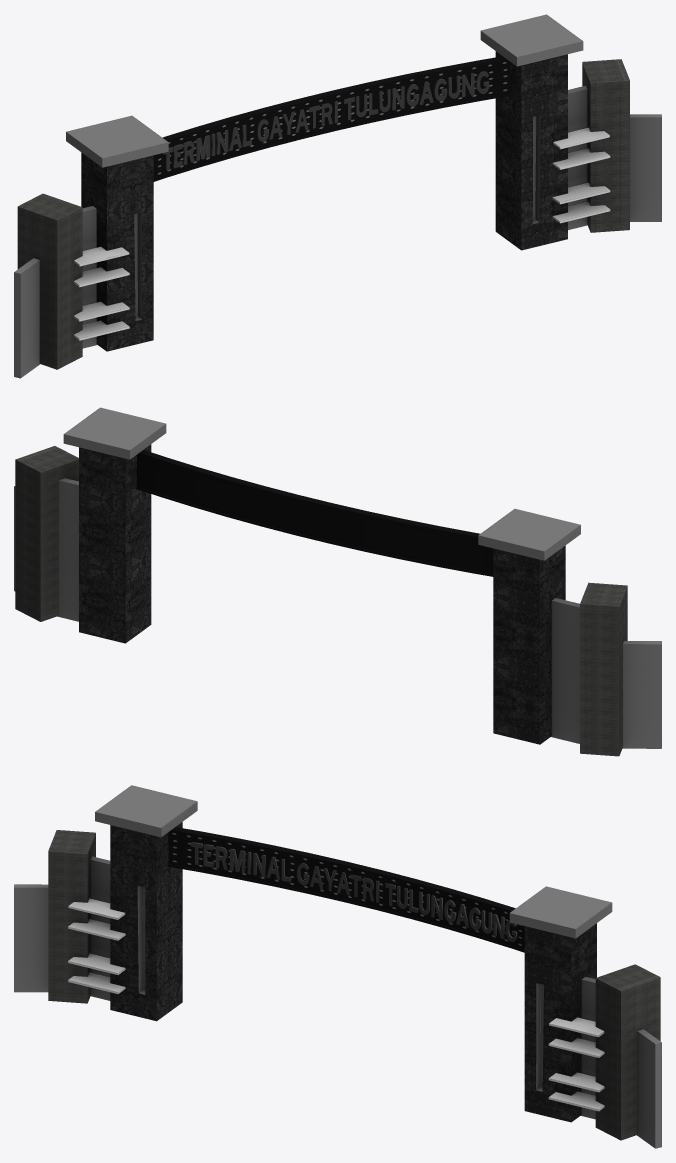
Rendered from gayatri1.glb.
3 renders of one model, top to bottom at view 1: azimuth 30°, elevation 25°; view 2: azimuth 150°, elevation 25°; view 3: azimuth 330°, elevation 25°, orthographic.
Parts seen in each view (by area): view 1: 1.003, 1, Cube.002, 1.002, Cube.001, Text, 1.001; view 2: 1.003, 1, Cube.002, 1.001, 1.002; view 3: 1.003, 1, Cube.002, 1.002, Cube.001, Text, 1.001.
Part boxes in pixels (x1,y1,x2,y2): 1.003: [66, 14, 583, 351]; 1: [17, 59, 629, 369]; Cube.002: [153, 56, 510, 181]; 1.002: [14, 114, 661, 378]; Cube.001: [73, 127, 610, 340]; Text: [163, 71, 489, 170]; 1.001: [82, 85, 587, 348]; 1.003: [63, 407, 580, 744]; 1: [15, 446, 627, 756]; Cube.002: [136, 450, 493, 576]; 1.001: [57, 478, 579, 743]; 1.002: [14, 486, 661, 748]; 1.003: [95, 785, 612, 1122]; 1: [48, 830, 660, 1140]; Cube.002: [167, 827, 524, 952]; 1.002: [14, 884, 661, 1148]; Cube.001: [68, 898, 604, 1111]; Text: [191, 841, 517, 942]; 1.001: [90, 856, 595, 1119].
Size of the model in its own units: 14.2 by 4.2 by 1.46.
Materials: 7 (6 with a texture image).
